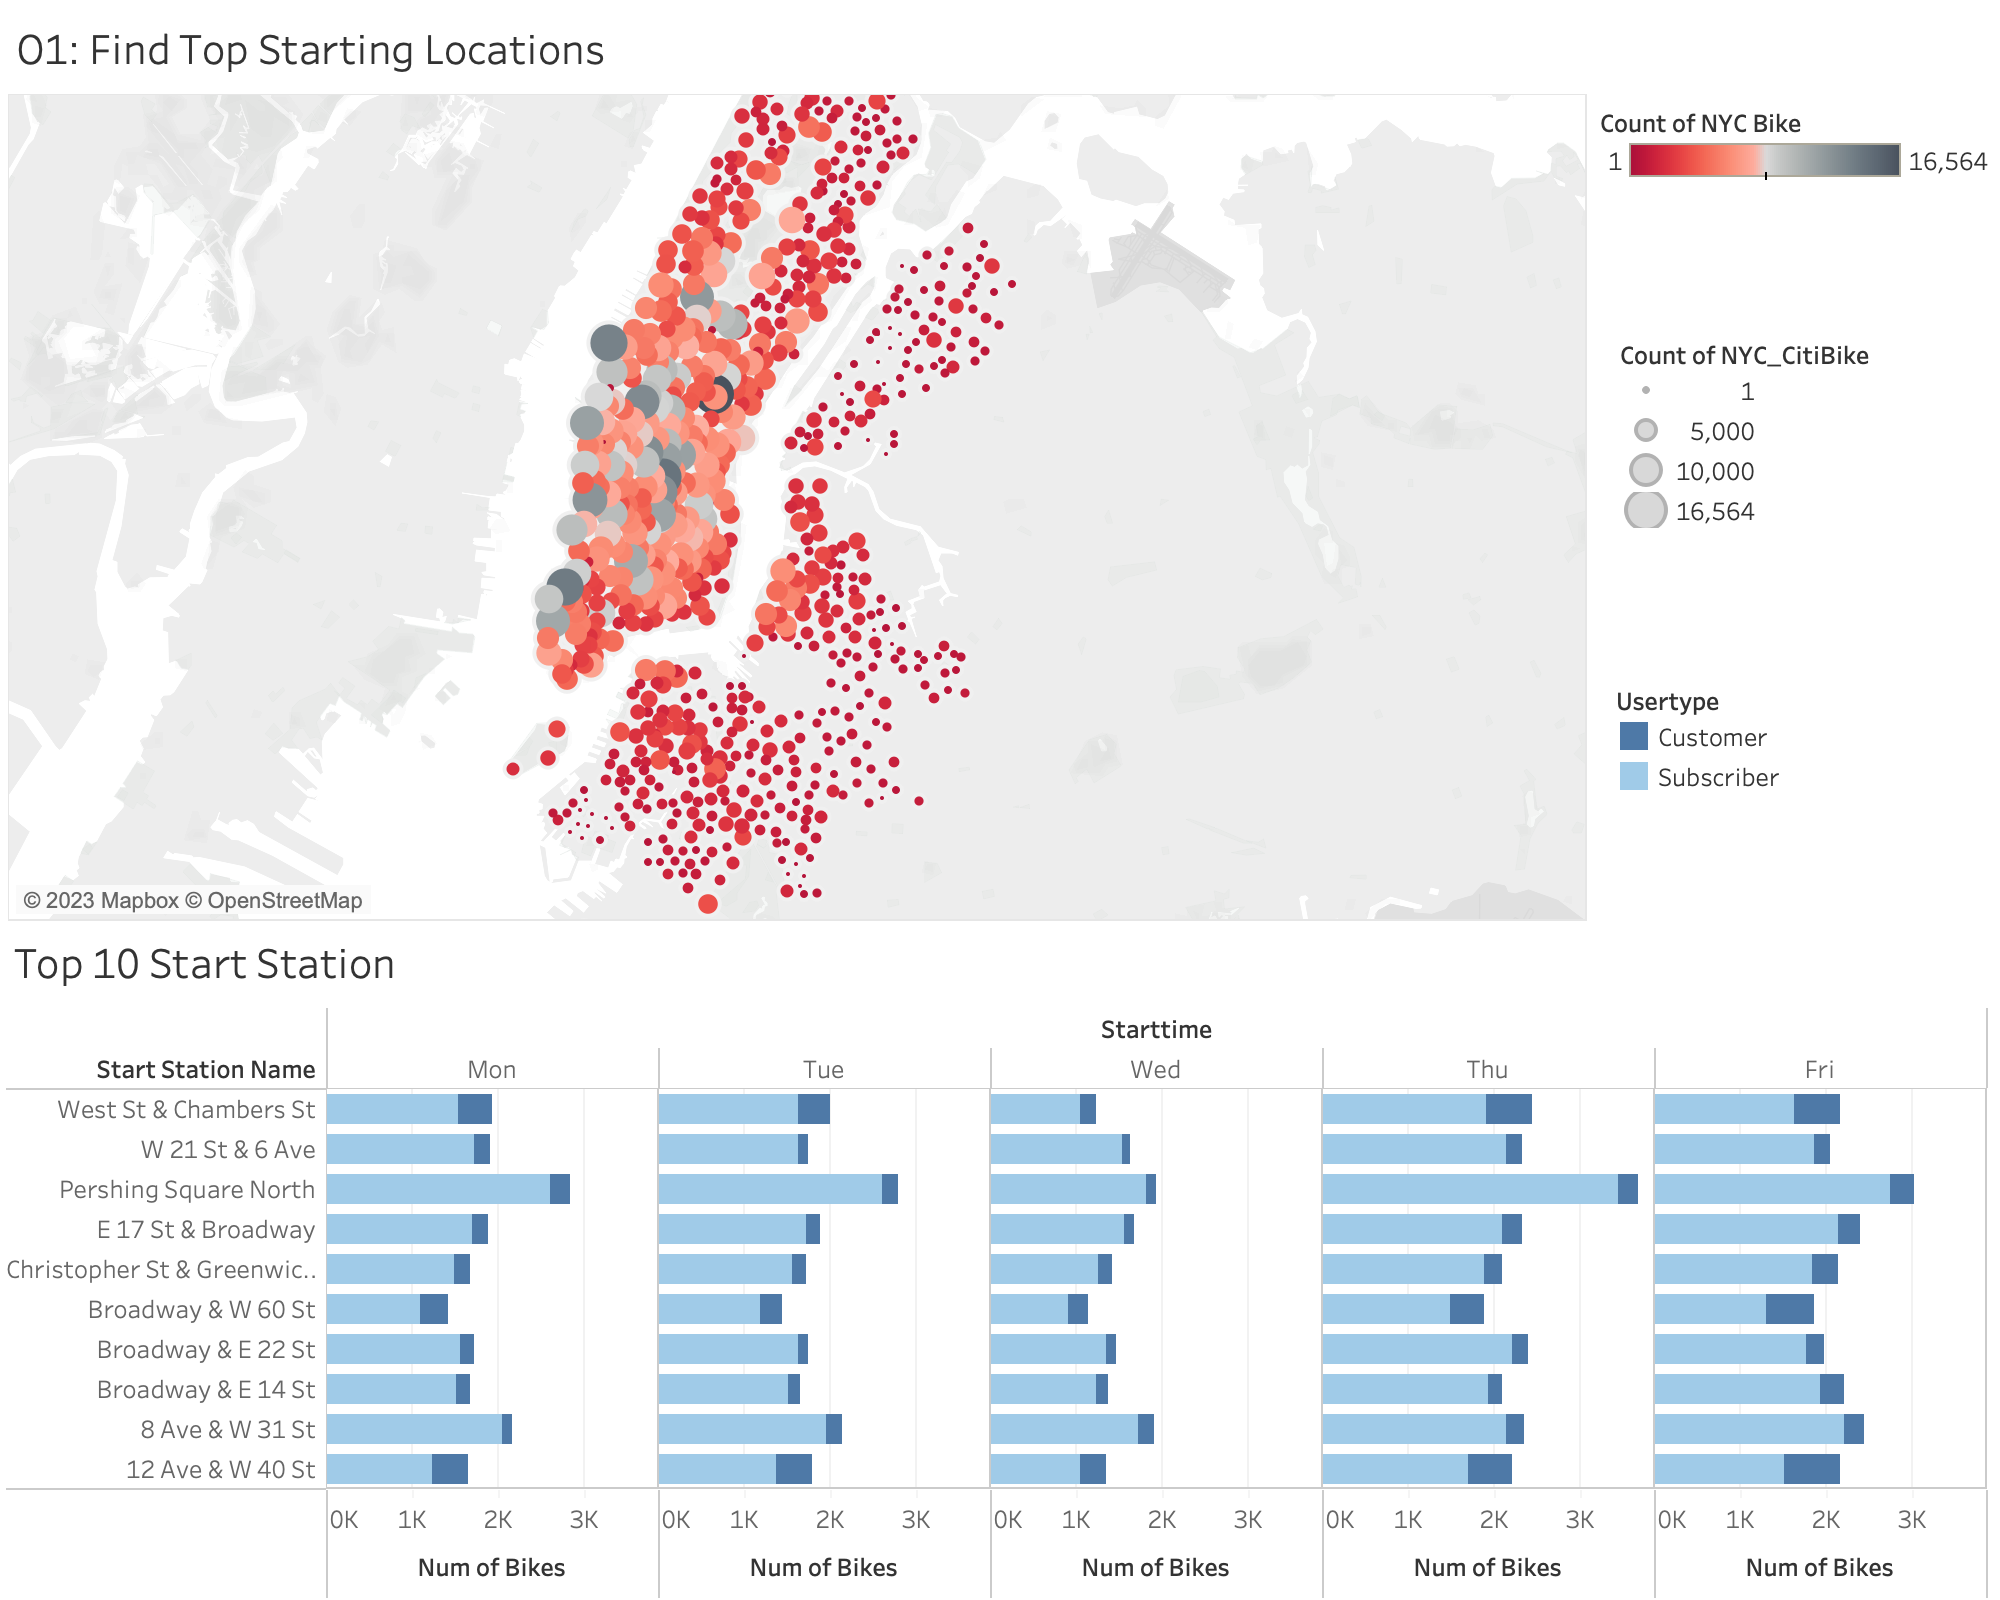

The page's visual inventory and layout, read from the dashboard file:
{"tool":"tableau","page":{"name":"Top Starting Locations ","canvas":[1000,800],"ordinal":2},"visuals":[{"type":"worksheet","title":"O1: Find Top Starting Locations","mark":"Automatic","rows":["start station latitude"],"cols":["start station longitude"],"box":[4,4,790,457]},{"type":"legend","title":"O1: Find Top Starting Locations","param":"[federated.0ihrg7r1pv6l2y1a934cb1cy9cg6].[__tableau_internal_object_id__].[cnt:N","box":[800,49,199,76]},{"type":"legend","title":"O1: Find Top Starting Locations","param":"[federated.0ihrg7r1pv6l2y1a934cb1cy9cg6].[__tableau_internal_object_id__].[cnt:N","box":[809,167,191,154]},{"type":"legend","title":"O2: Top 10 Start Station","param":"[federated.0ihrg7r1pv6l2y1a934cb1cy9cg6].[none:usertype:nk]","box":[807,340,191,108]}]}

Visuals, with their boxes in screenshot pixels (x1, y1, x2, y2), scaled from the page's 1000x800 canvas onto the 2000x1600 screenshot:
"O1: Find Top Starting Locations" worksheet: l=8, t=8, r=1588, b=922
"O1: Find Top Starting Locations" legend: l=1600, t=98, r=1998, b=250
"O1: Find Top Starting Locations" legend: l=1618, t=334, r=1999, b=642
"O2: Top 10 Start Station" legend: l=1614, t=680, r=1996, b=896
